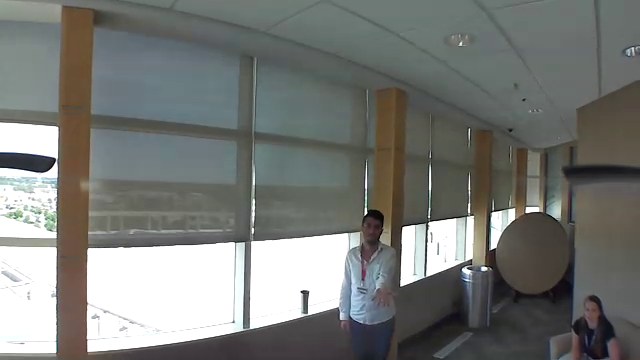land: (363, 284, 399, 308)
